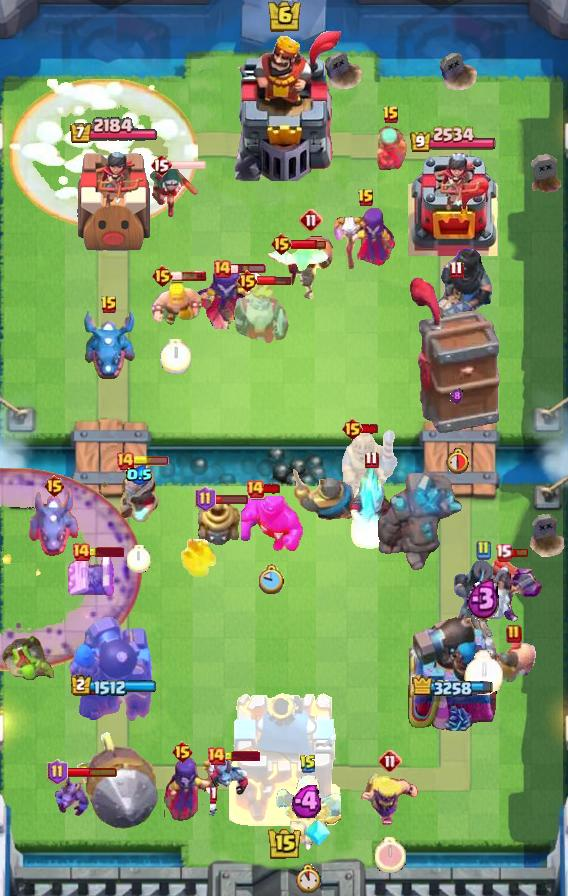bandit: (150, 162, 200, 220)
bar: (65, 766, 118, 778), (230, 263, 267, 275), (170, 159, 207, 171), (171, 270, 207, 282), (257, 275, 292, 287), (291, 238, 326, 250), (213, 494, 249, 505), (224, 751, 260, 761), (88, 547, 124, 557), (133, 456, 169, 466), (263, 483, 282, 495), (361, 423, 380, 435), (509, 547, 529, 558)
bar-level: (378, 749, 402, 773), (299, 208, 323, 232), (171, 740, 194, 764), (43, 474, 66, 498), (341, 417, 364, 441), (236, 269, 259, 293), (151, 264, 174, 288), (270, 232, 293, 256), (47, 759, 68, 785), (195, 486, 216, 512), (150, 153, 172, 177), (206, 746, 226, 766), (71, 542, 91, 562), (245, 479, 265, 499), (115, 451, 135, 471), (212, 259, 232, 279), (299, 754, 317, 774), (100, 295, 118, 315), (357, 188, 375, 208), (382, 105, 400, 125), (495, 543, 512, 562), (506, 624, 522, 644), (475, 540, 491, 560), (364, 450, 379, 469), (449, 260, 464, 279)
barbarian: (146, 280, 204, 332)
barbarian-evolution: (360, 769, 420, 827)
bat-evolution: (265, 246, 331, 276)
cannoneer-tower: (64, 615, 164, 731), (407, 611, 499, 731)
clock: (464, 650, 503, 695), (375, 837, 406, 873), (160, 339, 191, 374), (294, 864, 322, 894), (259, 564, 285, 594), (444, 447, 469, 474), (127, 545, 151, 573)
electro-dragon: (80, 307, 138, 381), (27, 486, 81, 558)
elixir: (466, 577, 501, 620), (291, 785, 326, 818), (126, 465, 153, 485), (450, 388, 463, 404)
elixir-golem-mid: (241, 492, 303, 552)
goblin-ball: (0, 633, 58, 681)
ice-spirit-evolution-symbol: (303, 817, 331, 849)
ice-wizard: (346, 461, 396, 553), (116, 462, 162, 526)
king-tower: (223, 31, 345, 181), (227, 688, 342, 826)
knight: (290, 468, 362, 523)
minion: (208, 753, 252, 799), (55, 776, 91, 818)
queen-tower: (71, 145, 157, 256), (408, 152, 498, 256)
rascal-girl: (373, 126, 409, 174)
royal-ghost: (234, 280, 290, 346)
royal-hog: (491, 638, 537, 682)
tesla: (67, 549, 119, 599)
tower-bar: (69, 117, 159, 145), (409, 126, 497, 154), (412, 675, 495, 700), (71, 675, 158, 697)
valkyrie-evolution: (484, 557, 544, 625)
wall-breaker: (286, 234, 336, 302)
witch: (194, 267, 278, 329), (164, 754, 232, 822), (334, 205, 398, 275)
zappy: (195, 495, 241, 547)
